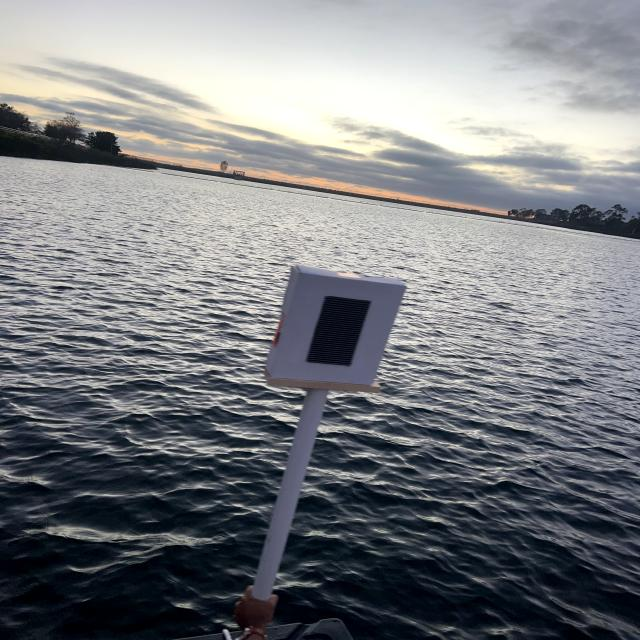led: (289, 286, 374, 380)
